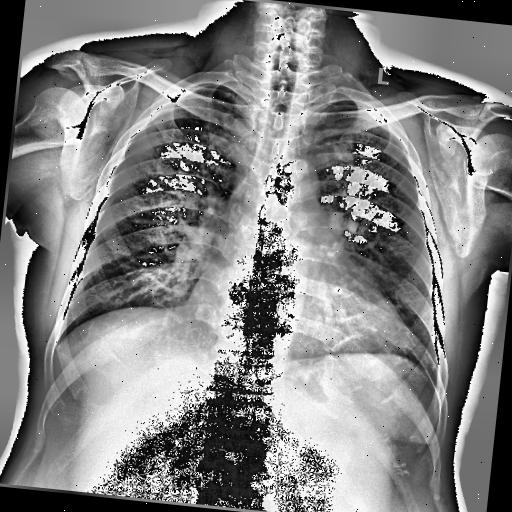0- Aortic enlargement: (264, 154, 325, 205)
3- Cardiomegaly: (182, 250, 420, 359), (181, 280, 424, 370), (182, 281, 420, 363)
